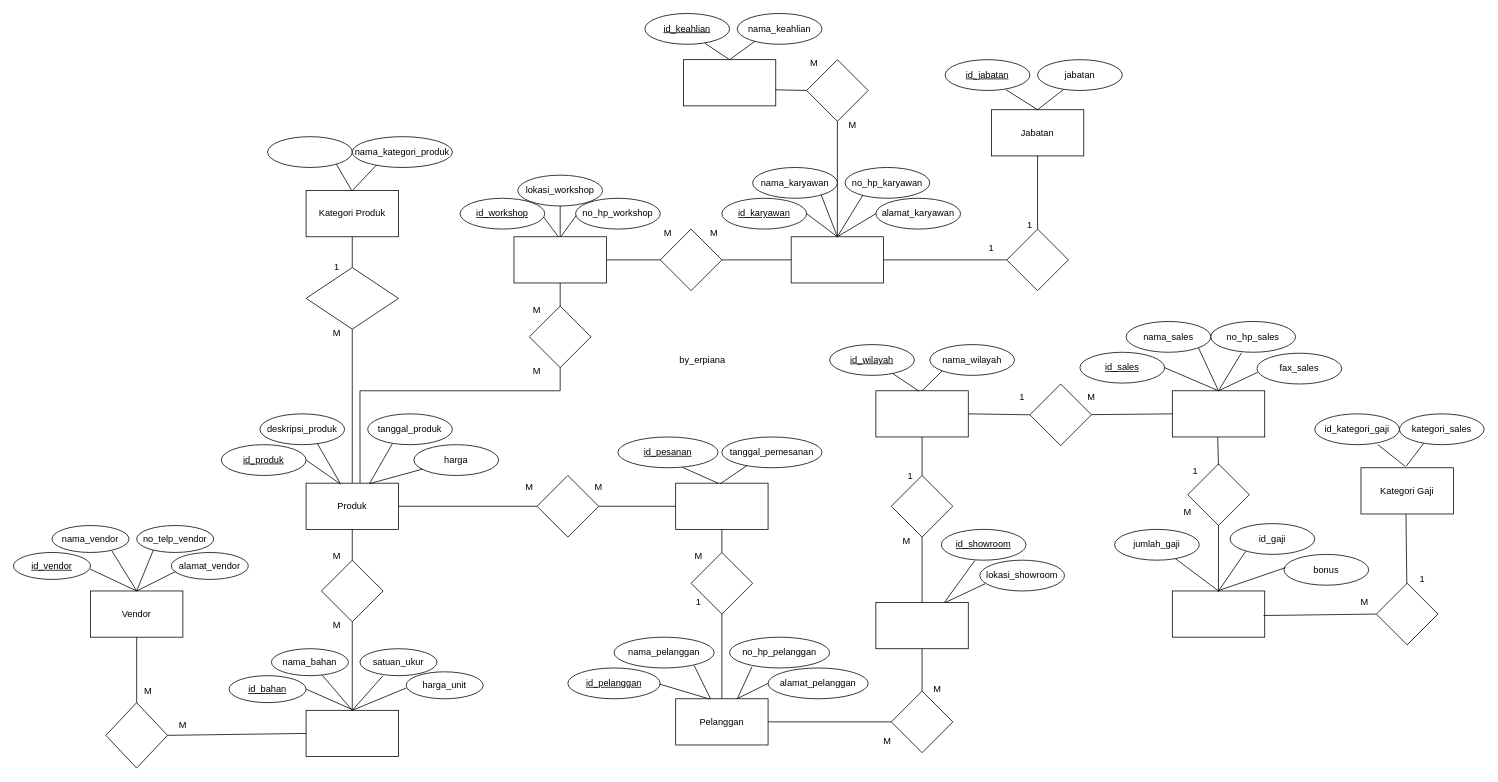
Image size: 1498x782. Some labels were removed from this diagram. Each missing label, with the box of its shape:
Bahan Baku: (305, 710, 398, 757)
Bahan Produk: (321, 559, 383, 622)
Gaji: (1172, 590, 1265, 637)
id_kategori_produk: (267, 136, 352, 167)
Karyawan: (790, 236, 884, 283)
Karyawan Workshop: (660, 228, 722, 291)
Keahlian: (683, 59, 776, 106)
Keahlian Karyawan: (806, 59, 868, 121)
melayani: (1029, 383, 1091, 446)
Memesan: (690, 552, 753, 614)
Memiliki: (1006, 228, 1068, 291)
Menerima: (1187, 463, 1249, 526)
mengelola: (891, 475, 953, 537)
Mengelompokkan: (305, 267, 398, 329)
Pemasok: (105, 702, 167, 768)
Pesanan: (675, 482, 768, 529)
Pesanan Produk: (536, 475, 599, 537)
Produk Workshop: (529, 305, 591, 368)
Sales: (1172, 390, 1265, 437)
Showroom: (875, 602, 968, 649)
Terbagi Dalam: (1376, 583, 1438, 645)
Transaksi: (891, 690, 953, 753)
Wilayah Penjualan: (875, 390, 968, 437)
Workshop: (513, 236, 606, 283)
